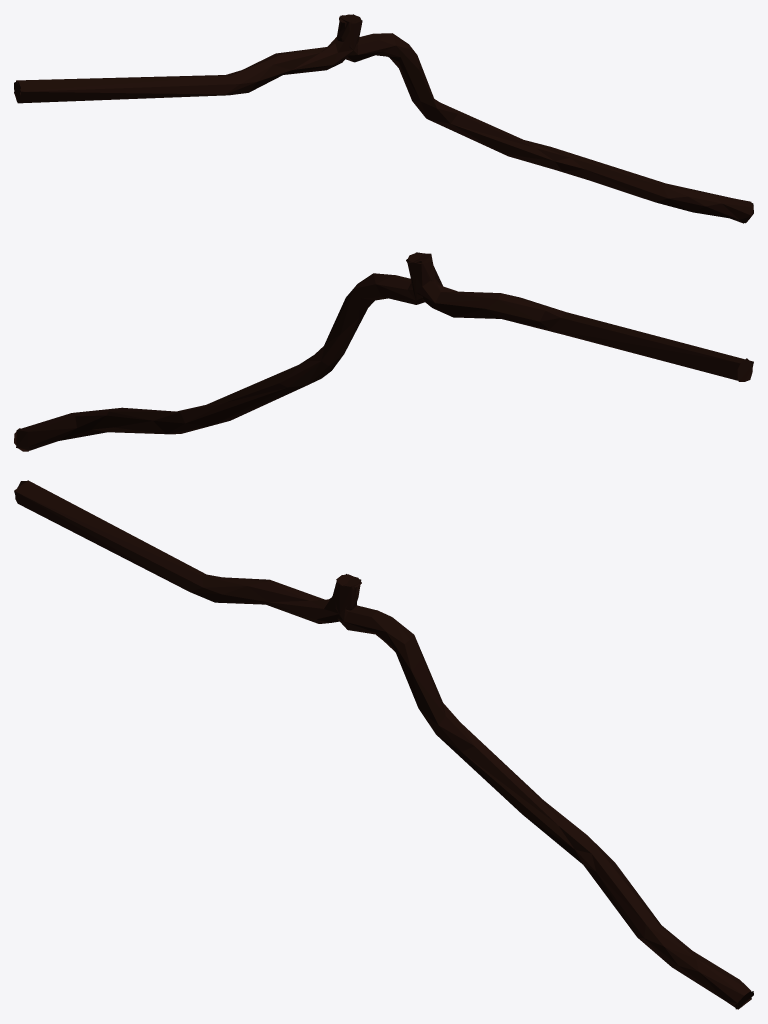
File: bogie_left_065.dae
3 renders of one model, top to bottom at view 1: azimuth 30°, elevation 25°; view 2: azimuth 150°, elevation 25°; view 3: azimuth 330°, elevation 25°, orthographic. The views are drawn at different scales.
Visible parts, largest first — view 1: node; view 2: node; view 3: node.
Boxes of the visible parts, x1,y1,x2,y2 form: node: [14, 14, 753, 223]; node: [14, 252, 753, 451]; node: [14, 480, 753, 1009].
Size of the model in its own units: 0.5531 by 0.0743 by 0.2137.
